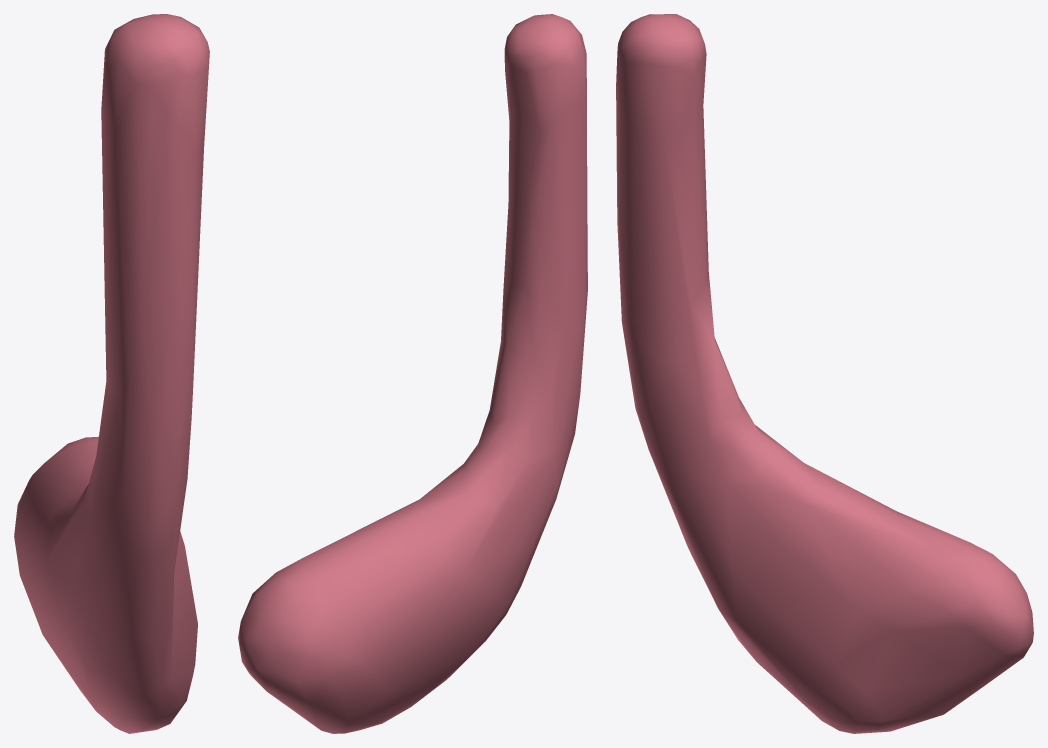
Rendered from Nasolacrimal_duct_right.glb.
The picture shows the model from 3 angles, left to right: view 1: azimuth 30°, elevation 25°; view 2: azimuth 150°, elevation 25°; view 3: azimuth 270°, elevation 25°; orthographic projection. The views are drawn at different scales.
Parts seen in each view (by area): view 1: Nasolacrimal_duct.r_grp1.064; view 2: Nasolacrimal_duct.r_grp1.064; view 3: Nasolacrimal_duct.r_grp1.064.
Part boxes in pixels (x1=…): Nasolacrimal_duct.r_grp1.064: x1=14, y1=14, x2=209, y2=733; Nasolacrimal_duct.r_grp1.064: x1=238, y1=14, x2=587, y2=733; Nasolacrimal_duct.r_grp1.064: x1=616, y1=14, x2=1033, y2=733.
Size of the model in its own units: 0.00598 by 0.0206 by 0.0116.
